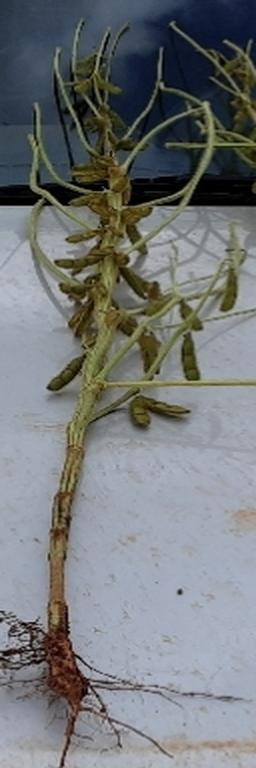pod: (43, 357, 86, 394), (179, 334, 202, 383), (147, 396, 190, 415), (219, 270, 235, 314), (53, 254, 102, 268), (62, 228, 102, 242), (182, 302, 202, 330), (132, 403, 150, 431)
soy: (1, 40, 237, 750)
